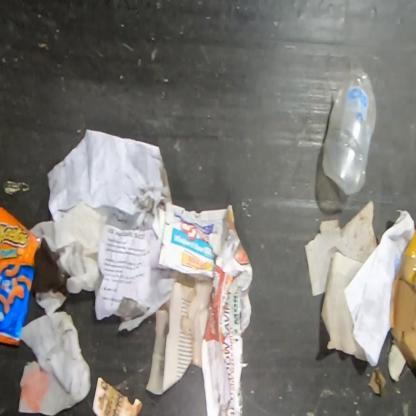cardboard: (390, 222, 415, 380)
rigid_plastic: (321, 65, 378, 198)
soft_plastic: (0, 205, 44, 350)
